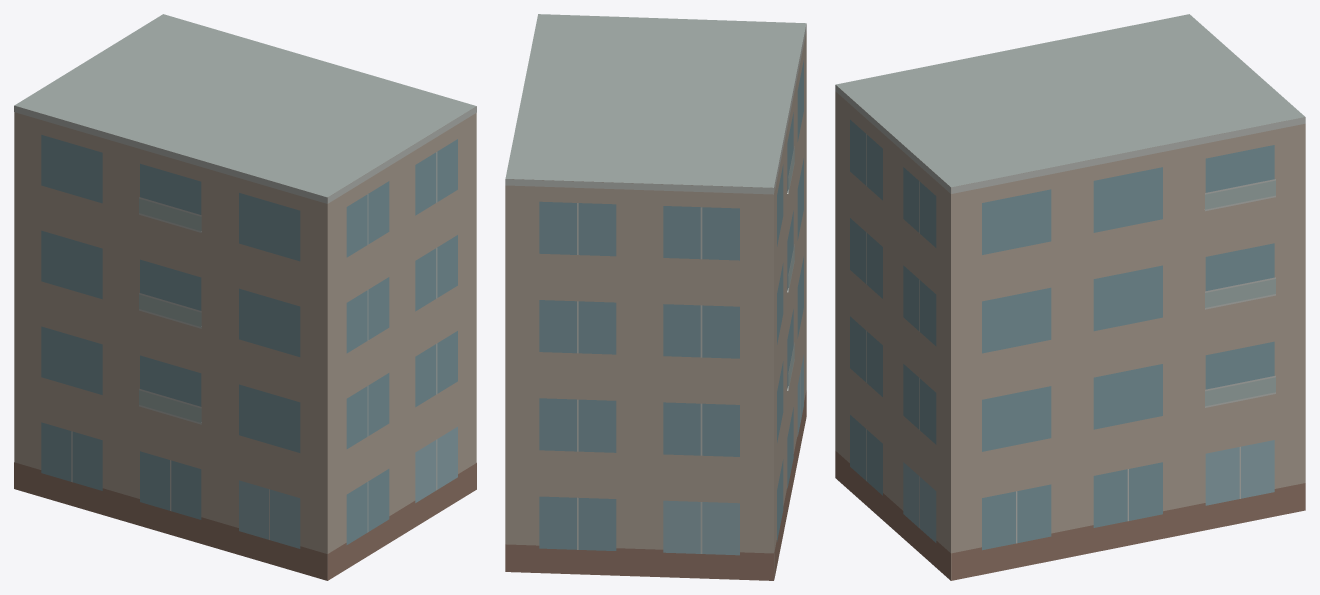
File: survey-upis-32836824.glb
The picture shows the model from 3 angles, left to right: view 1: azimuth 30°, elevation 25°; view 2: azimuth 150°, elevation 25°; view 3: azimuth 270°, elevation 25°; orthographic projection. The views are drawn at different scales.
Visible parts, largest first — view 1: survey-upis-32836824.tmp; view 2: survey-upis-32836824.tmp; view 3: survey-upis-32836824.tmp.
Boxes of the visible parts, box(x1,y1,x2,y2) form: survey-upis-32836824.tmp: box(14, 14, 476, 580); survey-upis-32836824.tmp: box(505, 14, 806, 580); survey-upis-32836824.tmp: box(835, 14, 1305, 580).
Size of the model in its own units: 13.57 by 14.35 by 15.55.
